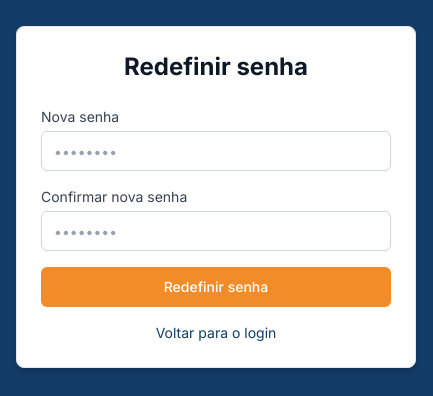
Test: ResetPassword — form shown when valid session › Zod refine: shows confirmPassword mismatch error when passwords do not match
Check: the button "Redefinir senha" is shown, box [41, 267, 391, 307]
In the password field labelled "Nova senha": (216, 151) [41, 131, 391, 171], type "StrongPass1!"
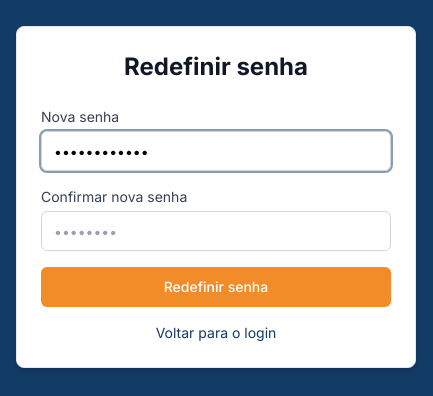
In the password field labelled "Confirmar nova senha": (216, 231) [41, 211, 391, 251], type "DifferentPass2!"
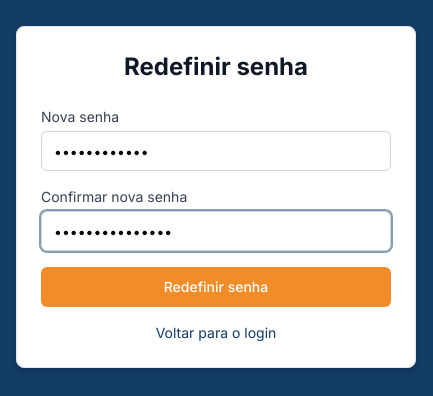
Click the button "Redefinir senha": click(216, 287) [41, 267, 391, 307]
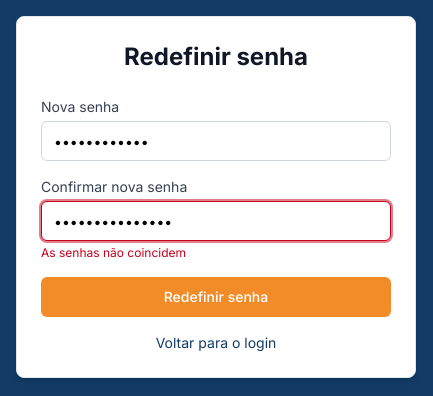
Check: the text "As senhas não coincidem" is shown, box [41, 245, 186, 260]
